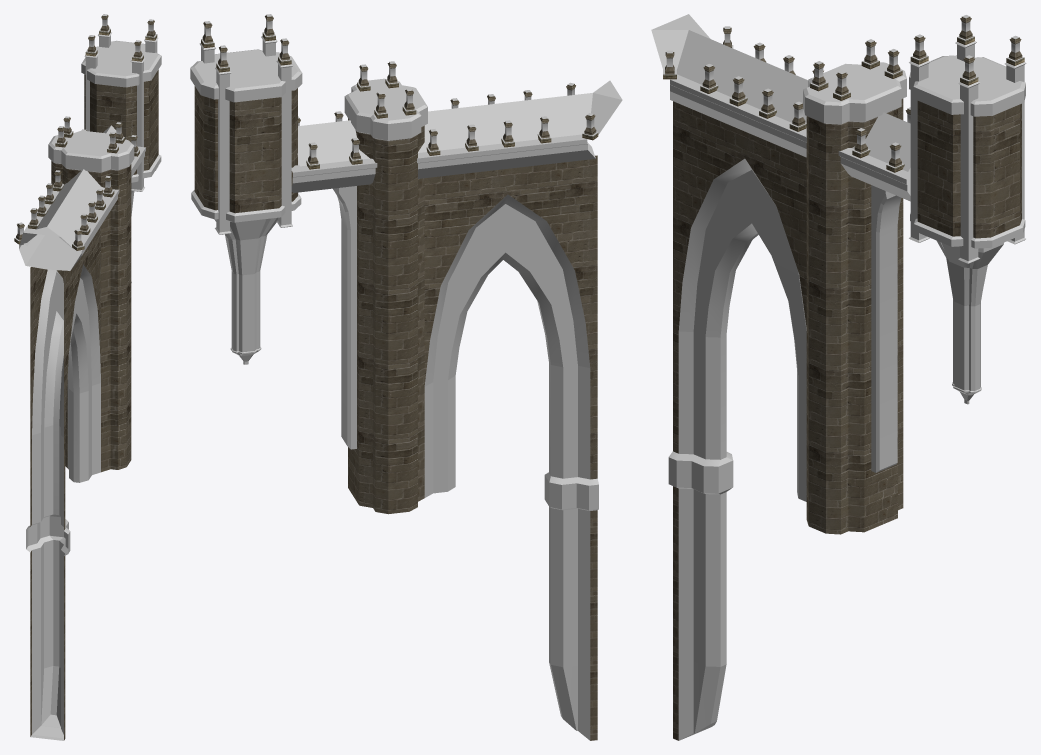
File: SM_TowerThroneRoom_02.FBX
3 renders of one model, left to right at view 1: azimuth 30°, elevation 25°; view 2: azimuth 150°, elevation 25°; view 3: azimuth 270°, elevation 25°, orthographic. The views are drawn at different scales.
Visible parts, largest first — view 1: SM_TowerThroneRoom_02; view 2: SM_TowerThroneRoom_02; view 3: SM_TowerThroneRoom_02.
Boxes of the visible parts, box(x1,y1,x2,y2) form: SM_TowerThroneRoom_02: box(14, 14, 161, 740); SM_TowerThroneRoom_02: box(190, 14, 622, 740); SM_TowerThroneRoom_02: box(651, 14, 1026, 740).
Size of what is drawn, in the model's own units: 3479 by 3479 by 8302.
